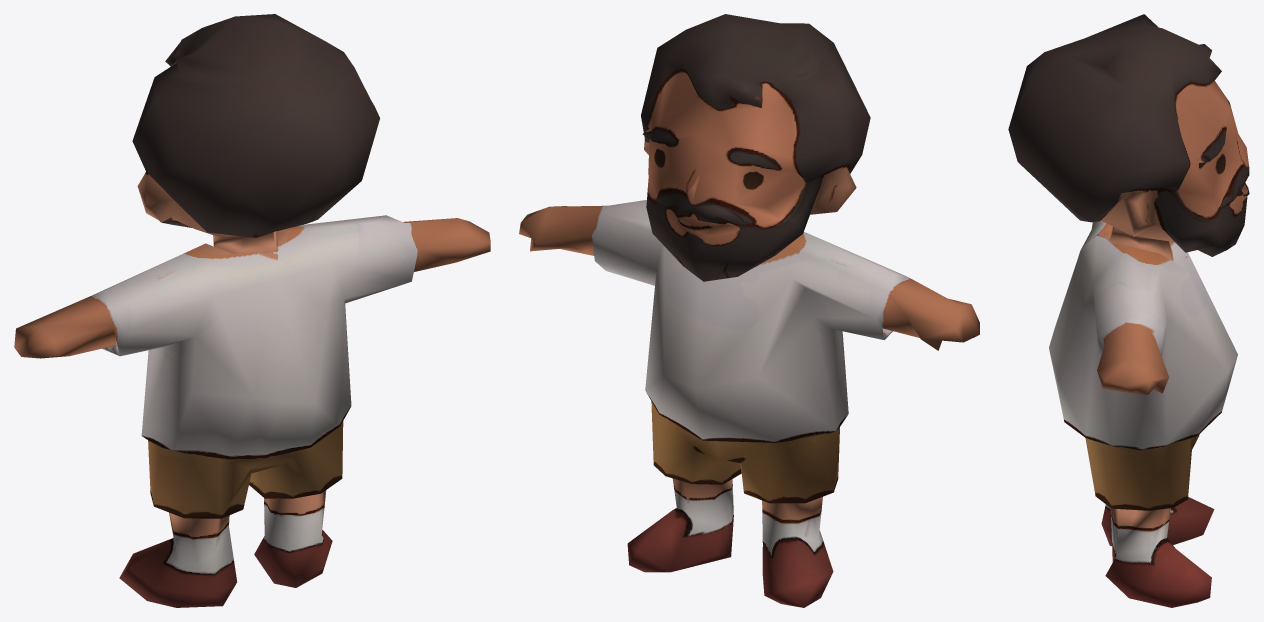
File: beefguy.fbx
The picture shows the model from 3 angles, left to right: view 1: azimuth 30°, elevation 25°; view 2: azimuth 150°, elevation 25°; view 3: azimuth 270°, elevation 25°; orthographic projection. The views are drawn at different scales.
Parts seen in each view (by area): view 1: beefguy_low; view 2: beefguy_low; view 3: beefguy_low.
Part boxes in pixels (bbox=[...]): beefguy_low: bbox=[14, 14, 490, 607]; beefguy_low: bbox=[519, 14, 979, 607]; beefguy_low: bbox=[1008, 14, 1249, 607].
Bounding box in the file's own units: 174 × 80.97 × 200.
